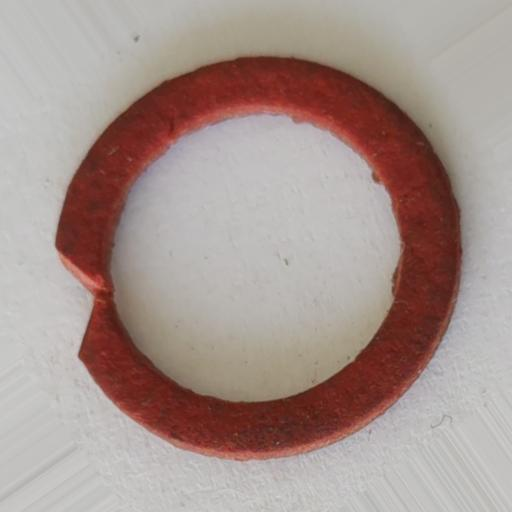defect: (56, 245, 103, 361)
